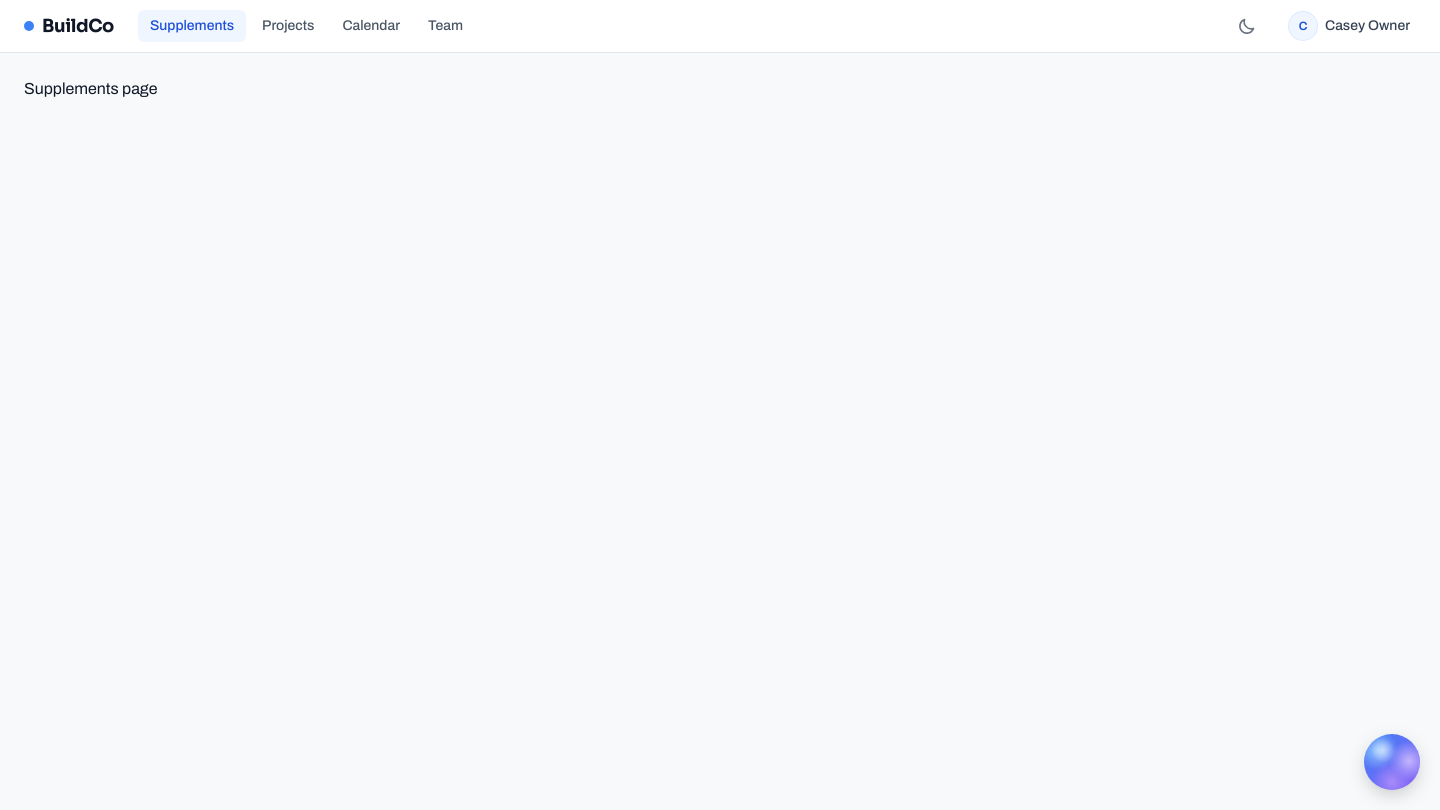
Test: BuildCo Assistant in the shell › the launcher › opens a panel beside the app, idle, and gets out of the way
The width and height of the screenshot is (1440, 810).
Click the button named "Ask BuildCo Assistant" at [1392, 762], box [1364,734,1420,790]
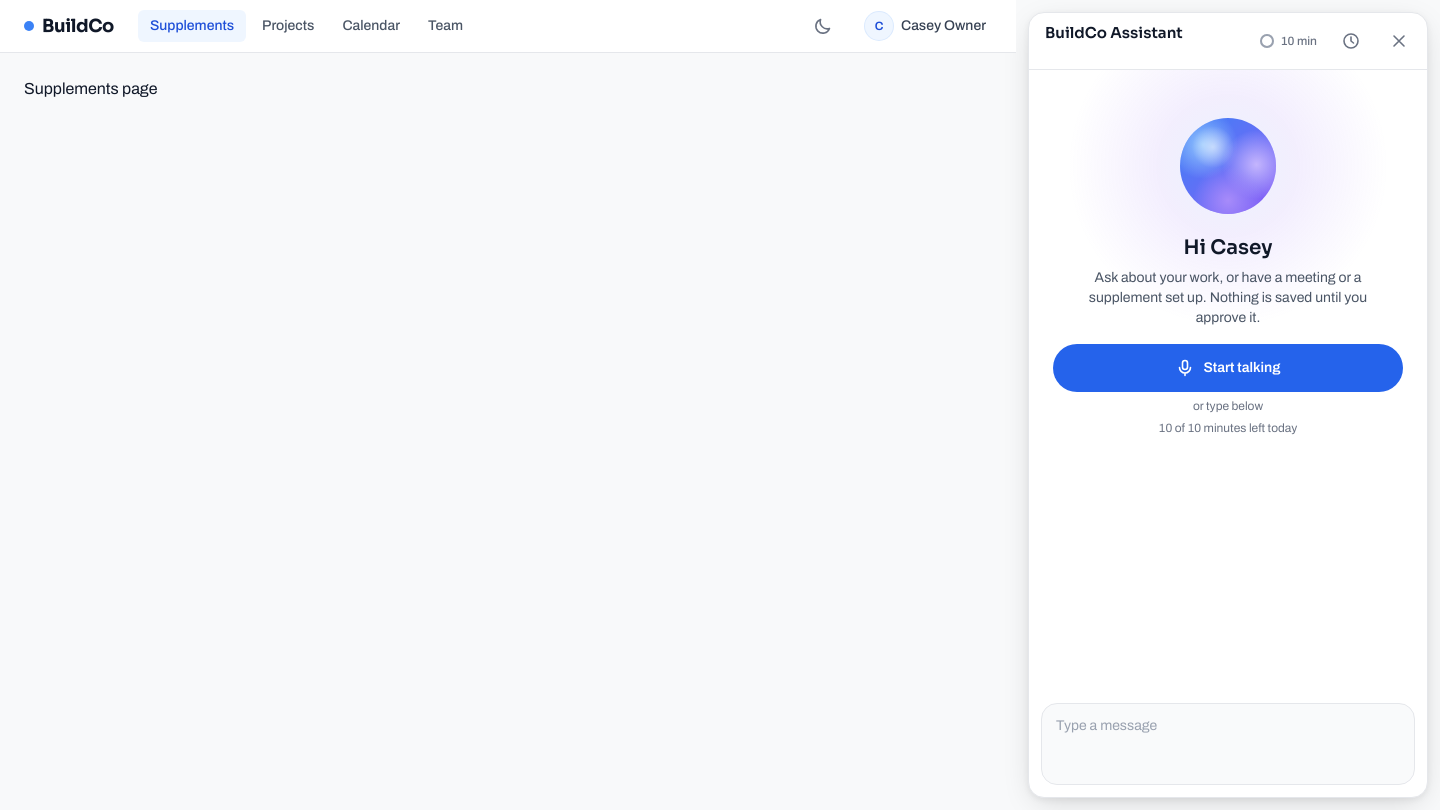
Expected: the button "Start talking" is shown, [1053,344,1403,392]
Expected: the text box named "Message the assistant" is shown, [1042,704,1414,740]
